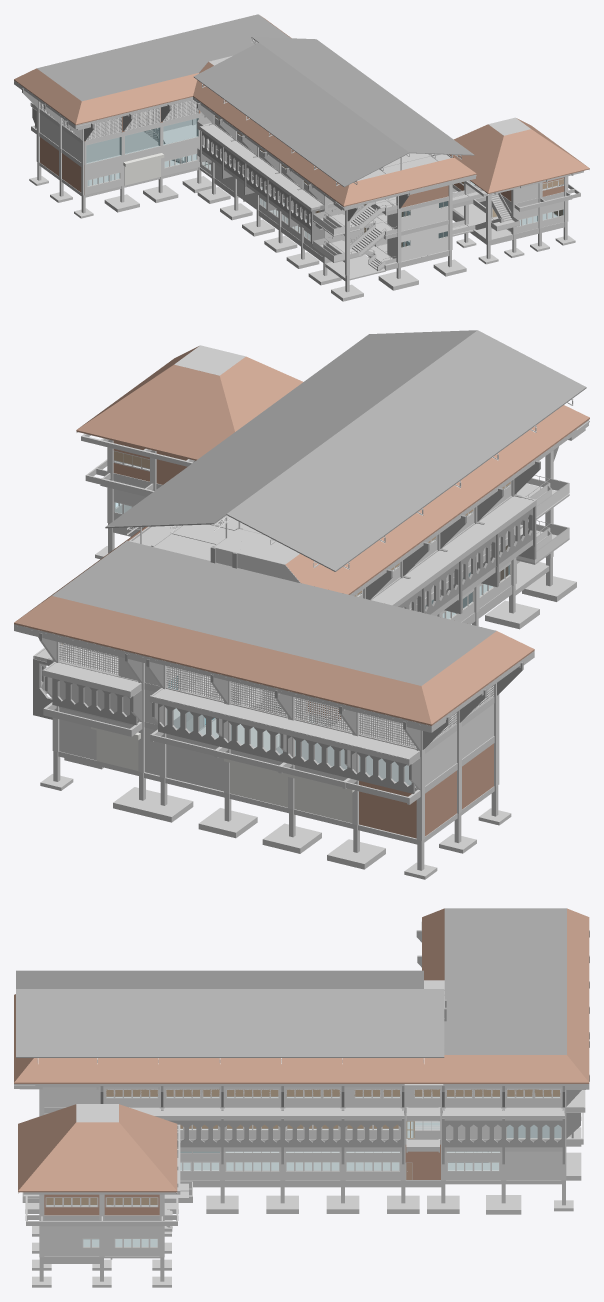
3 renders of one model, top to bottom at view 1: azimuth 30°, elevation 25°; view 2: azimuth 150°, elevation 25°; view 3: azimuth 270°, elevation 25°, orthographic. The views are drawn at different scales.
Visible parts, largest first — view 1: EN120RF, EN12001, EN12002, EN12003, EN120M1; view 2: EN120RF, EN12001, EN12002, EN12003, EN120M1; view 3: EN120RF, EN12001, EN12002, EN12003, EN120M1.
Boxes of the visible parts, left/top/right/bottom form: EN120RF: left=14, top=14, right=589, bottom=206; EN12001: left=29, top=100, right=580, bottom=301; EN12002: left=31, top=101, right=583, bottom=248; EN12003: left=22, top=88, right=452, bottom=225; EN120M1: left=14, top=55, right=476, bottom=210; EN120RF: left=14, top=330, right=589, bottom=725; EN12001: left=33, top=461, right=576, bottom=879; EN12002: left=33, top=433, right=569, bottom=804; EN12003: left=25, top=425, right=585, bottom=765; EN120M1: left=14, top=420, right=589, bottom=732; EN120RF: left=14, top=908, right=589, bottom=1198; EN12001: left=22, top=1113, right=583, bottom=1287; EN12002: left=23, top=1090, right=583, bottom=1226; EN12003: left=20, top=921, right=589, bottom=1120; EN120M1: left=14, top=980, right=589, bottom=1089.
Bounding box in the file's own units: 56.15 × 19.99 × 56.46.
